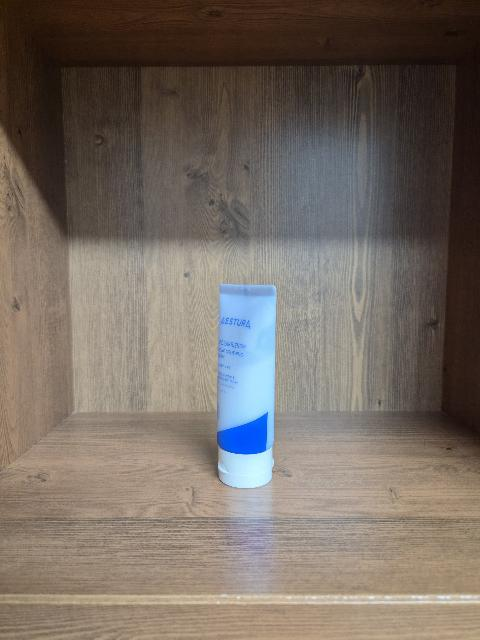handcream: (217, 284, 277, 488)
